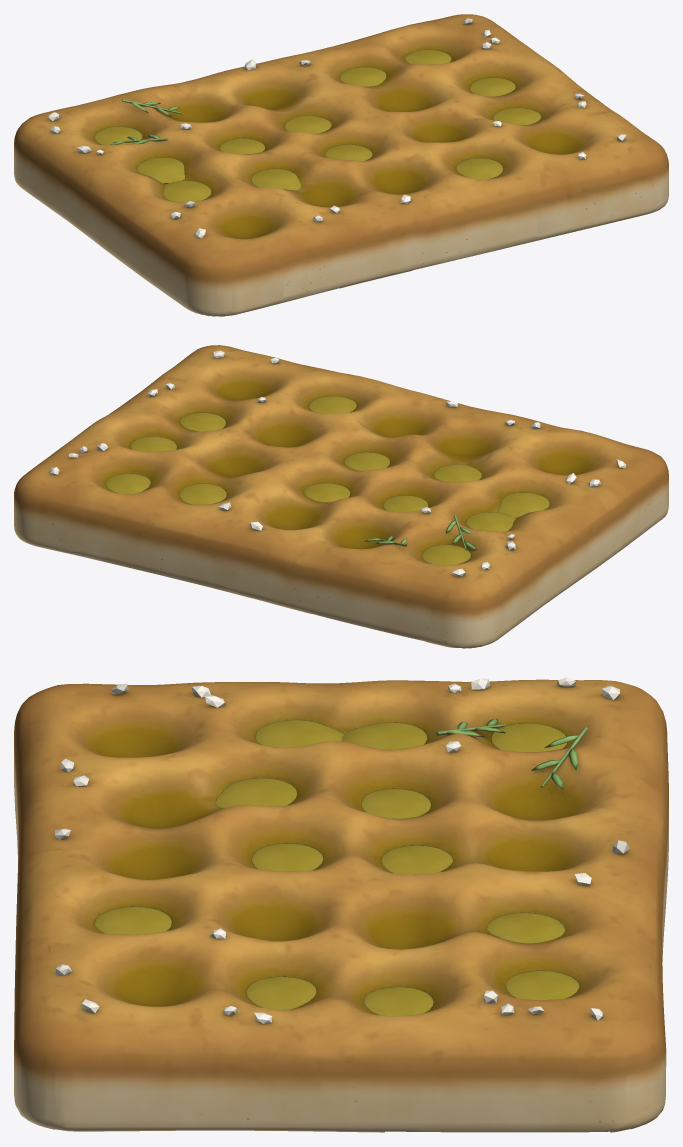
File: focaccia--olive-oil.glb
3 renders of one model, top to bottom at view 1: azimuth 30°, elevation 25°; view 2: azimuth 150°, elevation 25°; view 3: azimuth 270°, elevation 25°, orthographic. The views are drawn at different scales.
Parts seen in each view (by area): view 1: focaccia_olive-oil; view 2: focaccia_olive-oil; view 3: focaccia_olive-oil.
Boxes of the visible parts, box(x1,y1,x2,y2) form: focaccia_olive-oil: box(14, 14, 668, 316); focaccia_olive-oil: box(14, 345, 668, 648); focaccia_olive-oil: box(14, 677, 668, 1132).
Bounding box in the file's own units: 1.01 × 0.1427 × 0.7441.
Materials: 1 (1 with a texture image).
